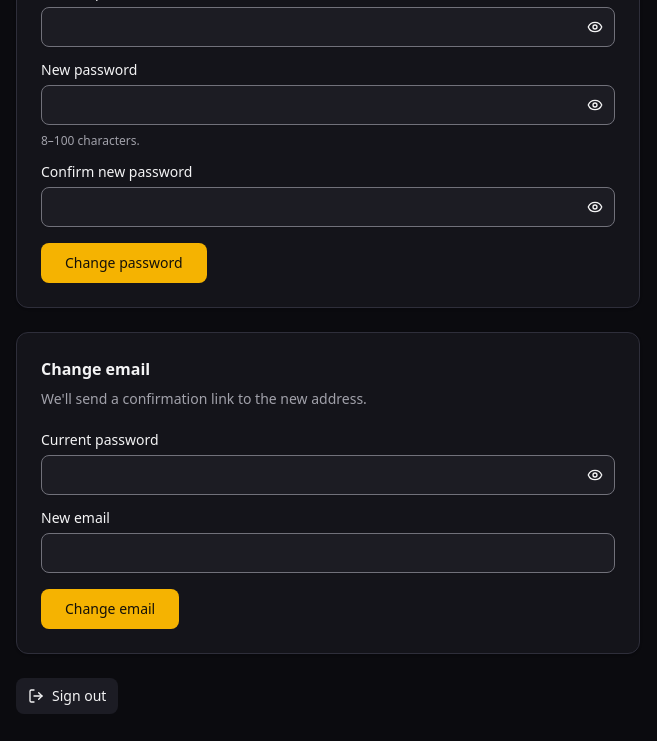
Scenario: change email › 503 → the email-send message
(page scrolled)
Type "old-password" into the 2nd password field labelled "Current password". click: (328, 475)
box: [41, 455, 615, 495]
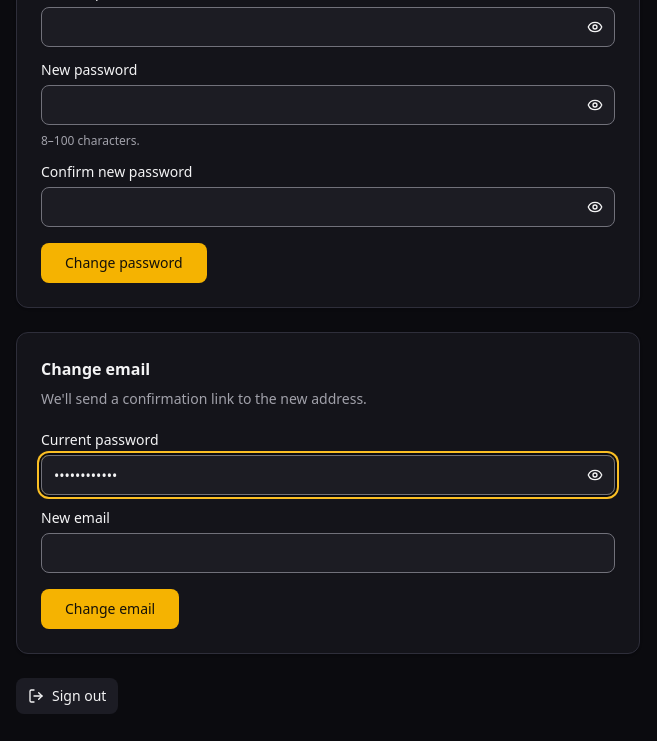
Type "new@example.com" into the field labelled "New email". click: (328, 553)
box: [41, 533, 615, 573]
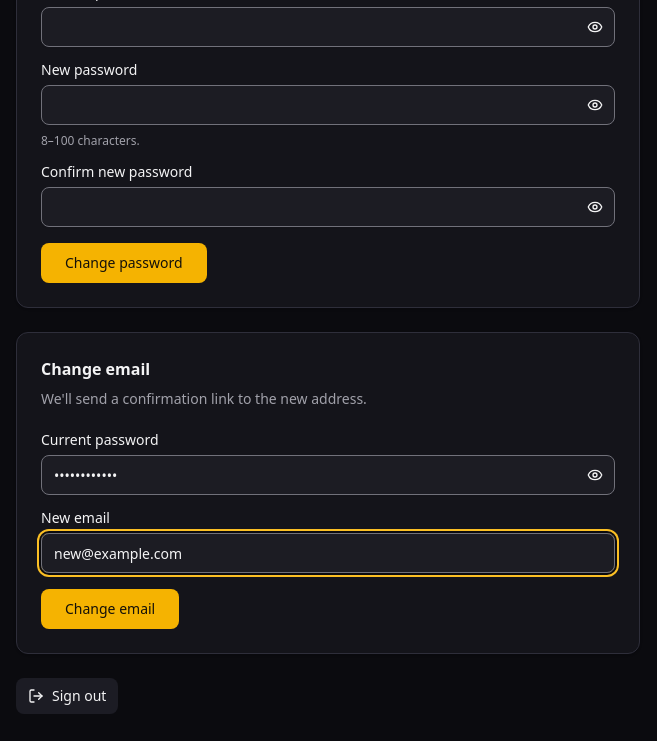
Click the button "Change email". click: (110, 609)
box: [41, 589, 179, 629]
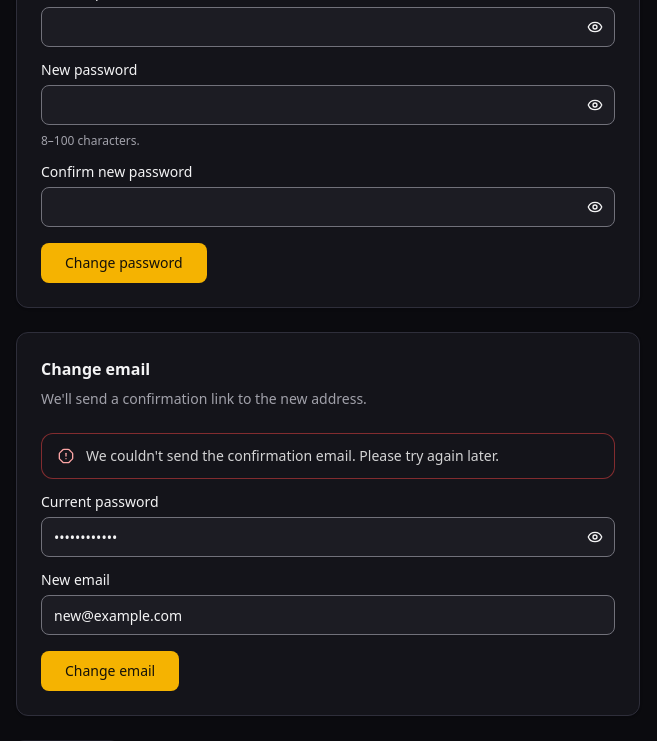
Expected: the text "We couldn't send the confirmation email. Please try again later." is shown, [86, 446, 499, 465]
